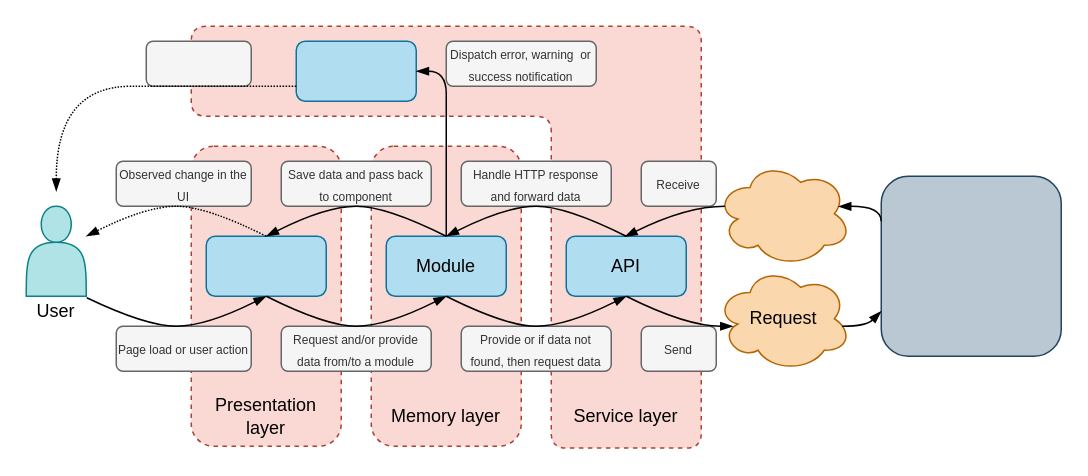
This 1088x476 diagram has some shape labels left out. The centre of each missing label's shape, as x and y in pixels:
"Backend API" belongs at point (970, 265).
"Component" belongs at point (265, 265).
"Feedback" belongs at point (198, 63).
"Notification" belongs at point (355, 70).
"Response" belongs at point (783, 213).
